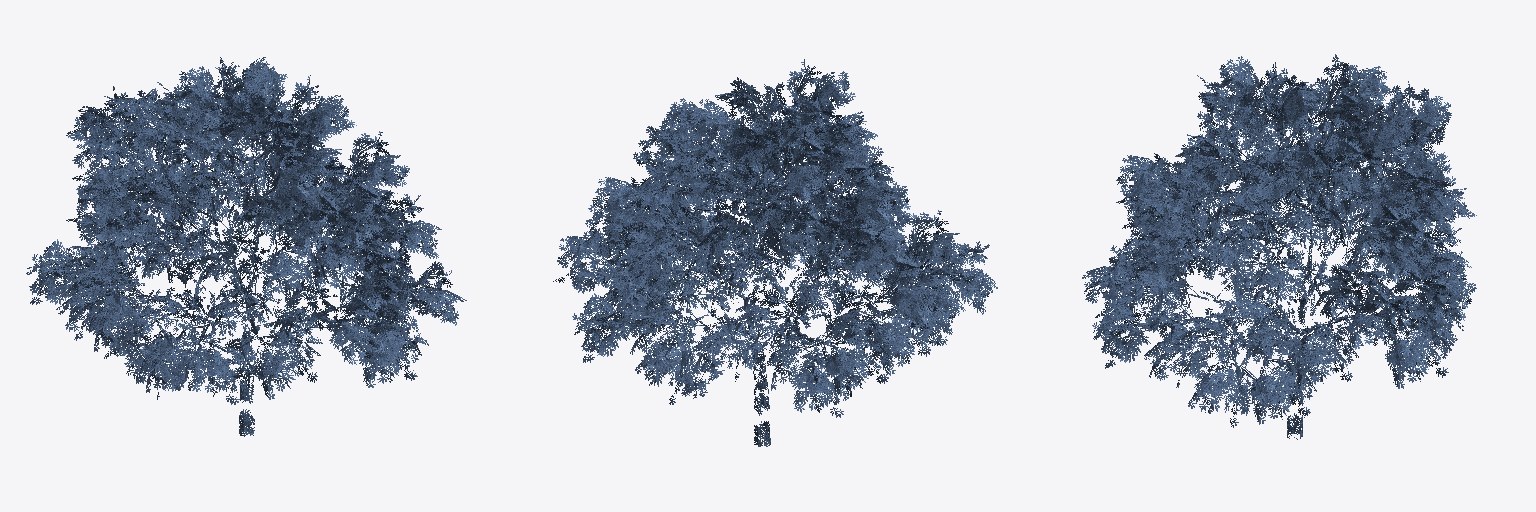
The picture shows the model from 3 angles: view 1: azimuth 30°, elevation 25°; view 2: azimuth 150°, elevation 25°; view 3: azimuth 270°, elevation 25°; orthographic projection.
Parts seen in each view (by area): view 1: AM113_061_Aesculus_Glabra; view 2: AM113_061_Aesculus_Glabra; view 3: AM113_061_Aesculus_Glabra.
Boxes of the visible parts, <box> form: AM113_061_Aesculus_Glabra: <box>26,57,466,436</box>; AM113_061_Aesculus_Glabra: <box>553,59,997,446</box>; AM113_061_Aesculus_Glabra: <box>1082,54,1476,439</box>.
Bounding box in the file's own units: 532 × 512 × 509.
1 materials, 1 textured.